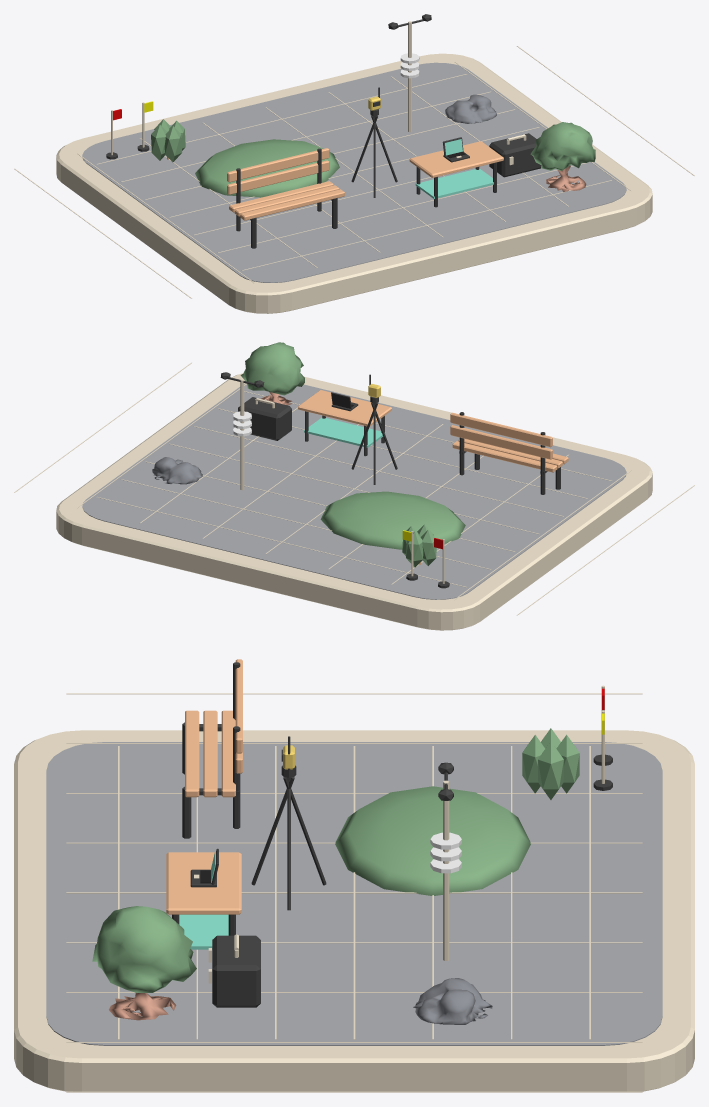
3 renders of one model, top to bottom at view 1: azimuth 30°, elevation 25°; view 2: azimuth 150°, elevation 25°; view 3: azimuth 270°, elevation 25°, orthographic. The views are drawn at different scales.
Visible parts, largest first — view 1: COM-02 Floor Surface, COM-01 Rounded Base Direct, Low terrain, 둥근 수관 나무, Worktop, Case, Lower shelf, Back slat.001, Back slat, 둥근 강돌 무리, Seat slat, Seat slat.001 (+3 smaller); view 2: COM-02 Floor Surface, COM-01 Rounded Base Direct, Low terrain, 둥근 수관 나무, Worktop, Case, Lower shelf, Back slat, Back slat.001, 둥근 강돌 무리, Seat slat.002, Seat slat.001 (+3 smaller); view 3: COM-02 Floor Surface, COM-01 Rounded Base Direct, Low terrain, 둥근 수관 나무, Worktop, Case, 둥근 강돌 무리, Lower shelf, Seat slat, Seat slat.001, Grout X.008, Grout X (+10 smaller).
Part boxes in pixels (x1=…): COM-02 Floor Surface: x1=82, y1=62, x2=626, y2=282; COM-01 Rounded Base Direct: x1=56, y1=53, x2=652, y2=313; Low terrain: x1=195, y1=139, x2=339, y2=197; 둥근 수관 나무: x1=530, y1=122, x2=595, y2=191; Worktop: x1=409, y1=141, x2=503, y2=177; Case: x1=489, y1=133, x2=541, y2=177; Lower shelf: x1=415, y1=168, x2=497, y2=198; Back slat.001: x1=227, y1=148, x2=329, y2=182; Back slat: x1=227, y1=160, x2=329, y2=194; 둥근 강돌 무리: x1=445, y1=94, x2=496, y2=123; Seat slat: x1=240, y1=189, x2=344, y2=220; Seat slat.001: x1=234, y1=185, x2=339, y2=216; COM-02 Floor Surface: x1=82, y1=383, x2=626, y2=599; COM-01 Rounded Base Direct: x1=56, y1=373, x2=652, y2=630; Low terrain: x1=320, y1=491, x2=465, y2=549; 둥근 수관 나무: x1=240, y1=342, x2=304, y2=405; Worktop: x1=298, y1=390, x2=391, y2=426; Case: x1=238, y1=397, x2=291, y2=440; Lower shelf: x1=304, y1=417, x2=385, y2=447; Back slat: x1=450, y1=425, x2=552, y2=459; Back slat.001: x1=450, y1=412, x2=552, y2=447; 둥근 강돌 무리: x1=152, y1=457, x2=202, y2=484; Seat slat.002: x1=452, y1=441, x2=557, y2=472; Seat slat.001: x1=458, y1=438, x2=562, y2=468; COM-02 Floor Surface: x1=46, y1=742, x2=662, y2=1045; COM-01 Rounded Base Direct: x1=14, y1=730, x2=694, y2=1091; Low terrain: x1=335, y1=786, x2=530, y2=895; 둥근 수관 나무: x1=92, y1=906, x2=196, y2=1020; Worktop: x1=166, y1=852, x2=241, y2=914; Case: x1=212, y1=935, x2=260, y2=1007; 둥근 강돌 무리: x1=413, y1=978, x2=492, y2=1024; Lower shelf: x1=179, y1=914, x2=228, y2=949; Seat slat: x1=185, y1=710, x2=199, y2=797; Seat slat.001: x1=203, y1=710, x2=217, y2=797; Grout X.008: x1=66, y1=1091, x2=642, y2=1092; Grout X: x1=66, y1=693, x2=642, y2=694.
Bounding box in the file's own units: 7.21 × 1.85 × 5.2.
Materials: 1 (1 with a texture image).
